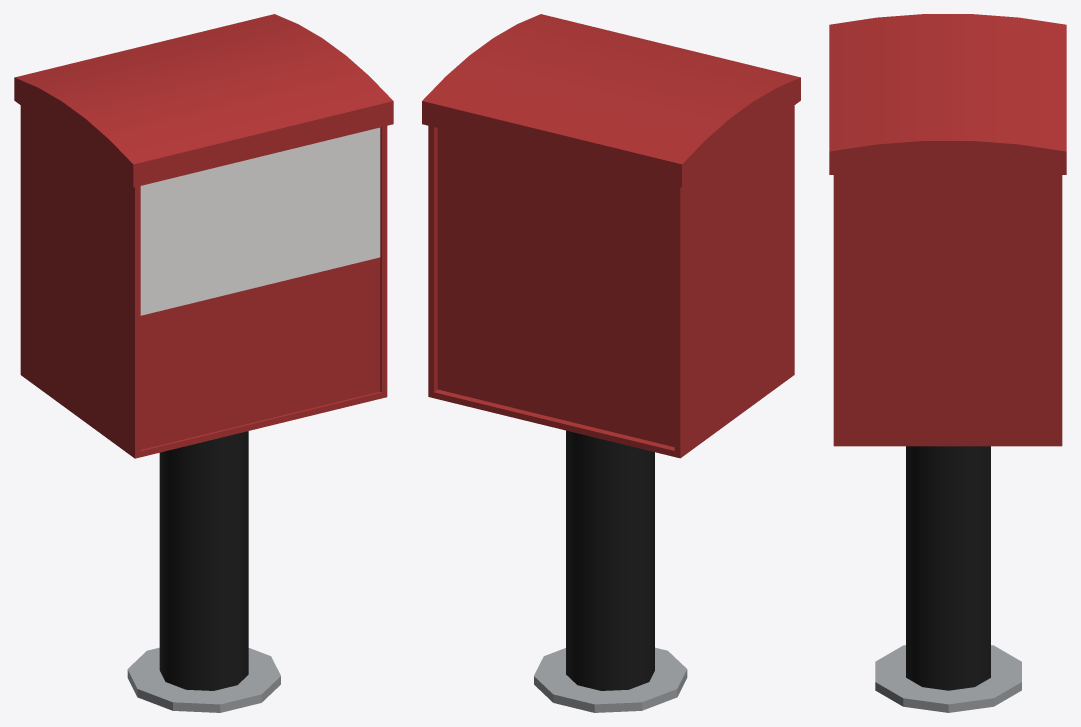
File: SM_mailbox_japan.fbx
3 renders of one model, left to right at view 1: azimuth 30°, elevation 25°; view 2: azimuth 150°, elevation 25°; view 3: azimuth 270°, elevation 25°, orthographic.
Visible parts, largest first — view 1: Cylinder020; view 2: Cylinder020; view 3: Cylinder020.
Part boxes in pixels (x1,y1,x2,y2): Cylinder020: (14,14,393,712); Cylinder020: (422,14,800,712); Cylinder020: (829,14,1066,712).
Size of the model in its own units: 22.99 by 18.2 by 50.92.
